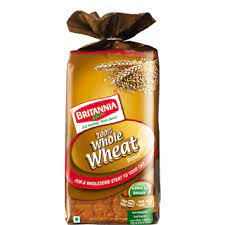bread: (58, 13, 175, 225)
